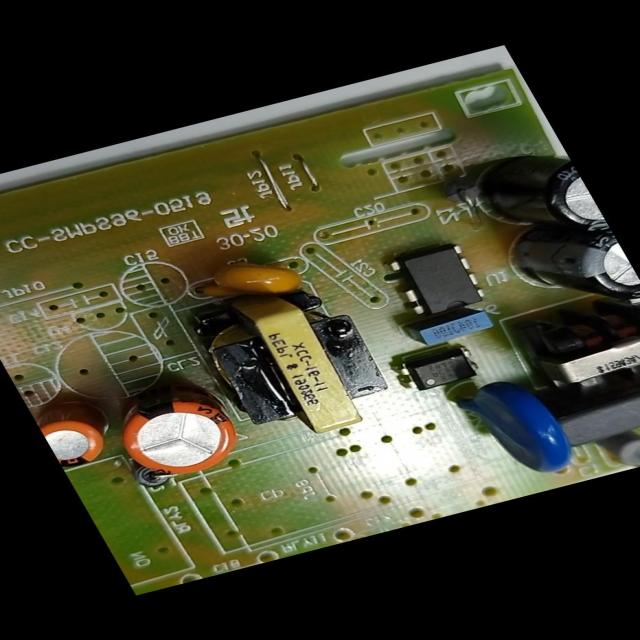Cap1: (90, 364, 256, 496)
Cap2: (26, 386, 143, 482)
Cap3: (483, 215, 639, 326)
Cap4: (433, 142, 613, 268)
MOSFET: (359, 225, 508, 338)
Mov: (435, 360, 601, 496)
Resistor: (586, 422, 640, 475)
Transformer: (158, 261, 415, 460), (501, 288, 639, 412)
